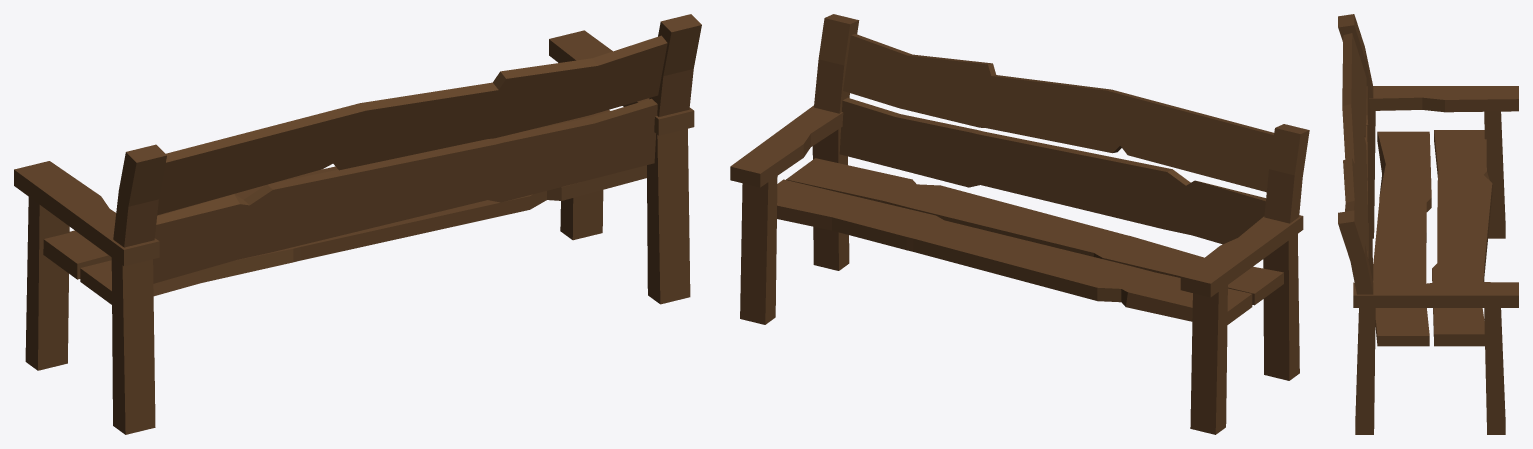
Rendered from bench_n4_bench_1_lev5.glb.
3 views of the same model, side by side, from view 1: azimuth 30°, elevation 25°; view 2: azimuth 150°, elevation 25°; view 3: azimuth 270°, elevation 25° (orthographic). The views are drawn at different scales.
Visible parts, largest first — view 1: bench_n4_bench_1_lev5; view 2: bench_n4_bench_1_lev5; view 3: bench_n4_bench_1_lev5.
Part boxes in pixels (x1,y1,x2,y2): bench_n4_bench_1_lev5: (14,14,701,434); bench_n4_bench_1_lev5: (730,14,1309,434); bench_n4_bench_1_lev5: (1338,14,1518,434).
Size of the model in its own units: 2.5 by 1.19 by 0.9114.
